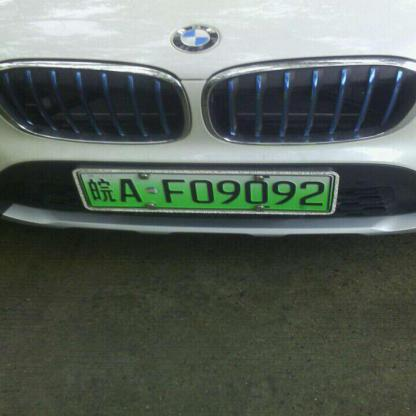lp: (81, 174, 330, 209)
